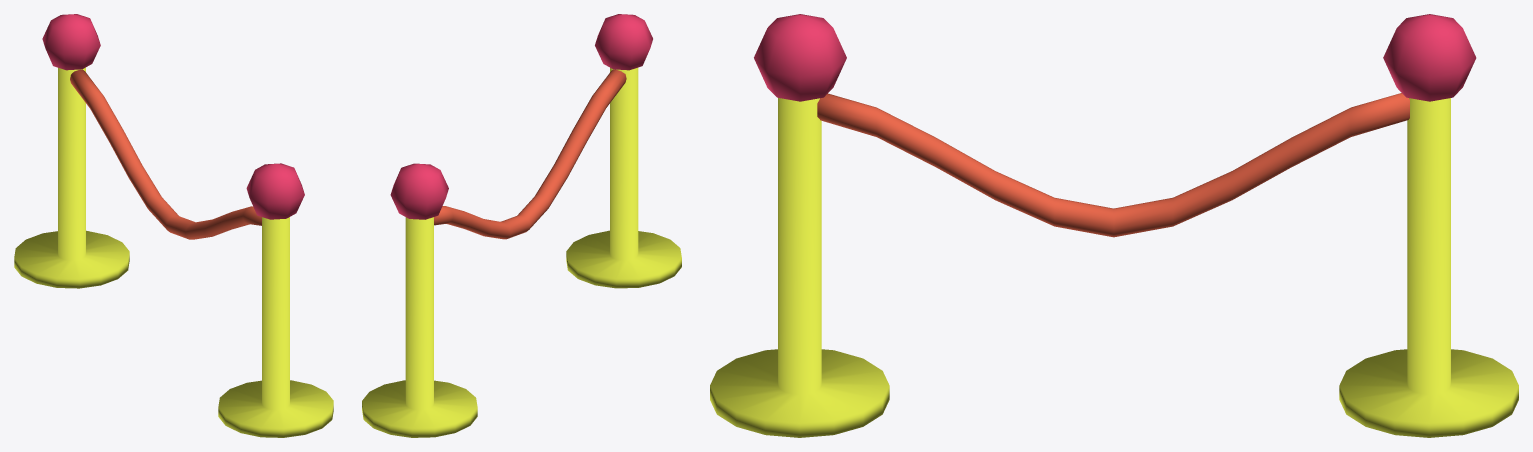
Rendered from AyirmaObjesi.fbx.
3 views of the same model, side by side, from view 1: azimuth 30°, elevation 25°; view 2: azimuth 150°, elevation 25°; view 3: azimuth 270°, elevation 25° (orthographic). The views are drawn at different scales.
Parts seen in each view (by area): view 1: AyirmaObjesi; view 2: AyirmaObjesi; view 3: AyirmaObjesi.
Boxes of the visible parts, left/top/right/bottom form: AyirmaObjesi: left=14, top=14, right=333, bottom=437; AyirmaObjesi: left=362, top=14, right=681, bottom=437; AyirmaObjesi: left=710, top=14, right=1518, bottom=437.
Size of the model in its own units: 28.75 by 67.96 by 130.
